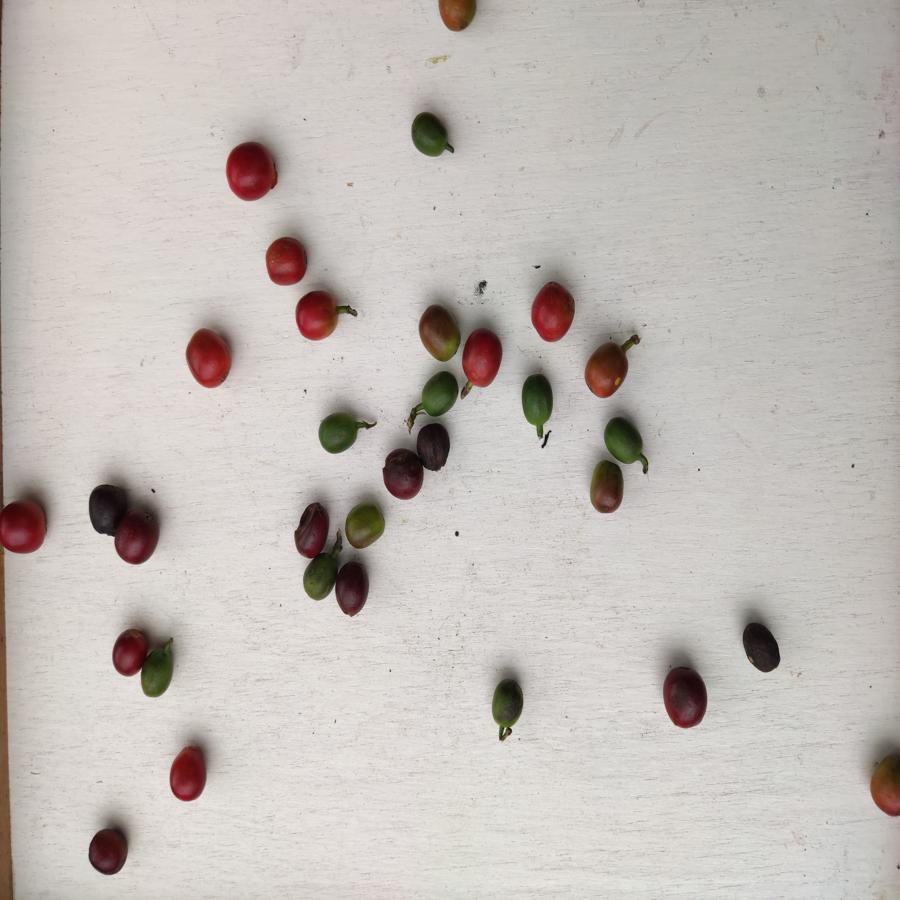Inmaduro: (405, 110, 455, 161), (516, 373, 559, 429), (602, 416, 647, 465), (315, 412, 362, 457), (419, 371, 462, 418), (299, 553, 338, 603), (141, 647, 177, 700), (490, 678, 526, 728)
Maduro: (221, 143, 283, 200), (181, 328, 235, 391), (528, 282, 577, 344), (1, 497, 49, 558), (293, 288, 341, 342), (167, 745, 208, 807), (262, 235, 308, 287), (463, 327, 502, 387)
Pinton: (414, 302, 463, 363), (584, 343, 629, 398), (341, 501, 387, 551), (868, 749, 900, 819), (590, 460, 624, 513), (433, 1, 479, 34)
Sobremaduro: (662, 665, 710, 729), (114, 510, 163, 566), (83, 483, 130, 538), (738, 622, 784, 674), (290, 502, 333, 555), (381, 449, 423, 502), (334, 560, 372, 616), (87, 828, 128, 878), (107, 630, 146, 681), (416, 422, 453, 475)
